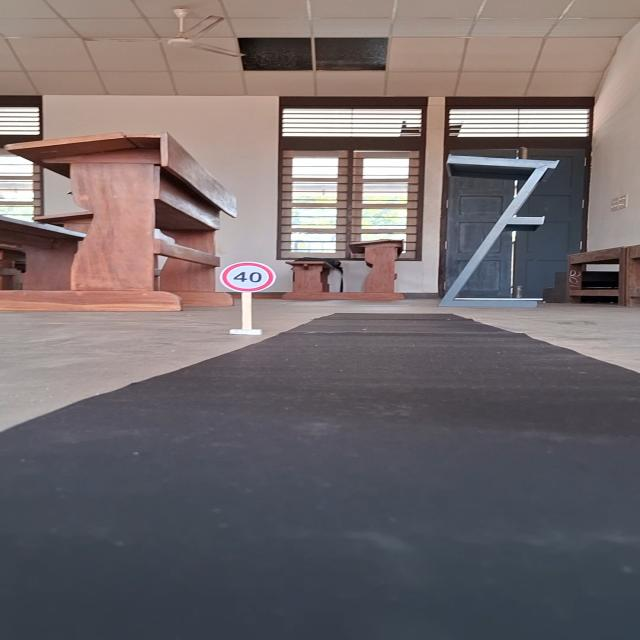Speed40: (217, 260, 277, 294)
